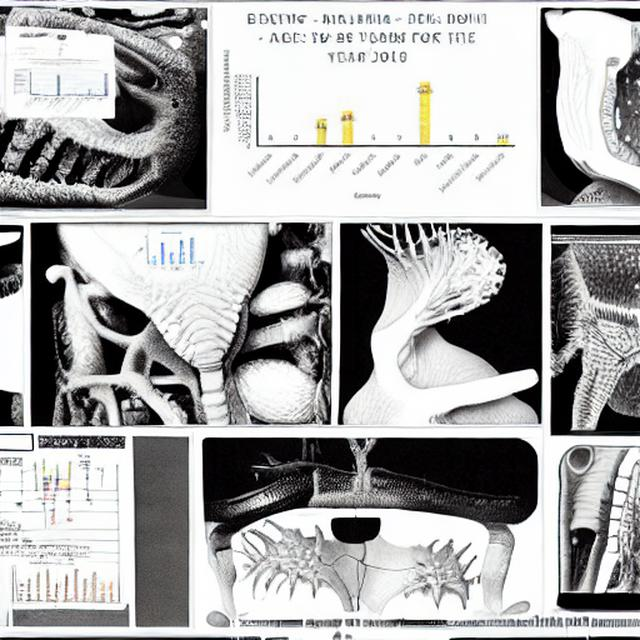Graph: (210, 2, 524, 218), (11, 57, 110, 114), (11, 560, 90, 608), (136, 229, 208, 271)
